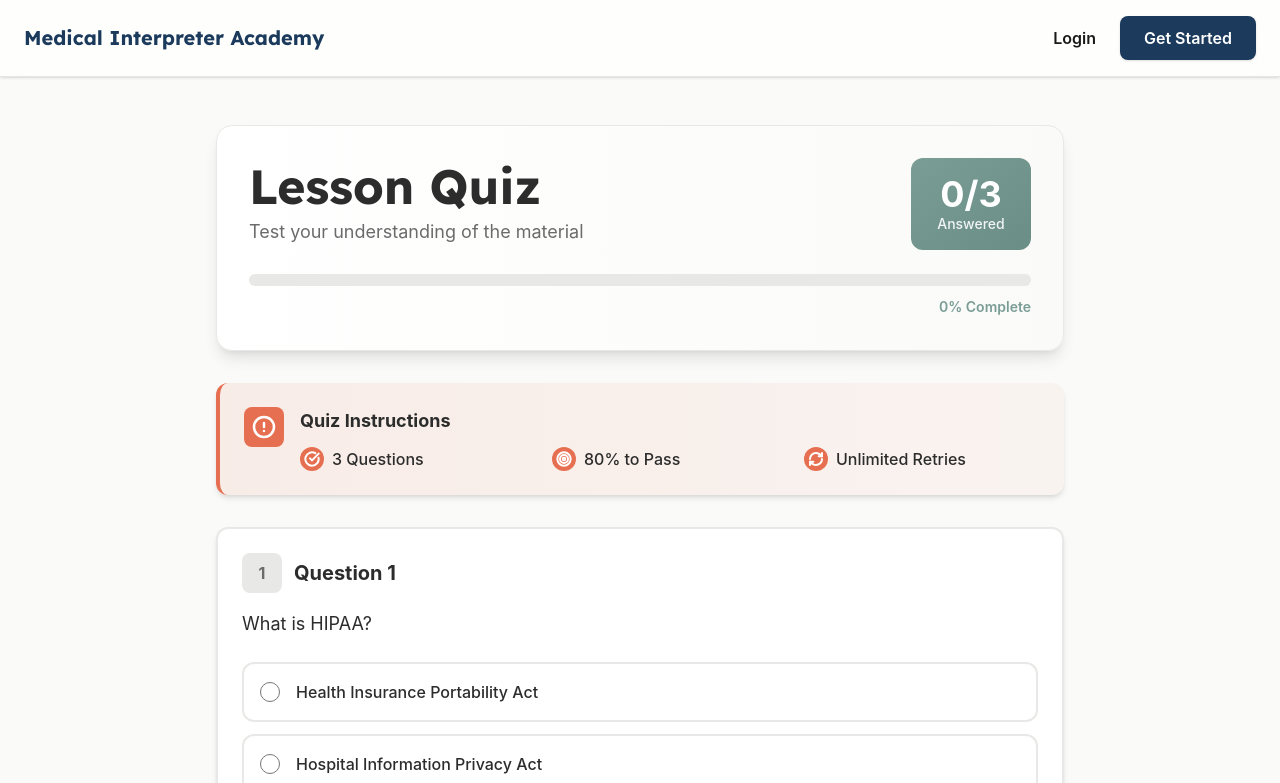
Test: QuizView Page › Answering Questions › should update answered count when answering questions
Expected: the text "0/3" is shown, [940,172,1002,216]
// Answer first question
Step 1. Click the radio button labelled "Health Insurance Portability Act" → (270, 692), box [260,682,280,702]
(page scrolled)
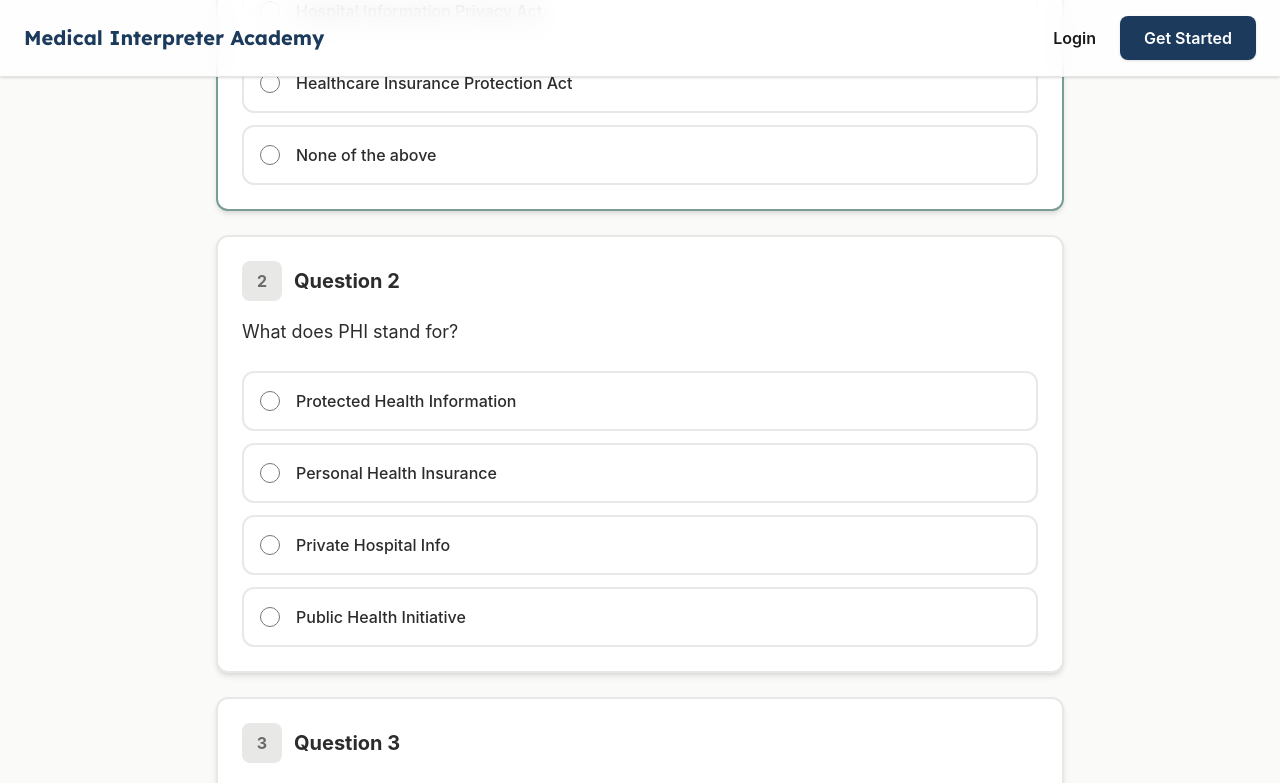
// Answer second question
Step 2. Click the radio button labelled "Protected Health Information" → (270, 400), box [260,390,280,410]
(page scrolled)
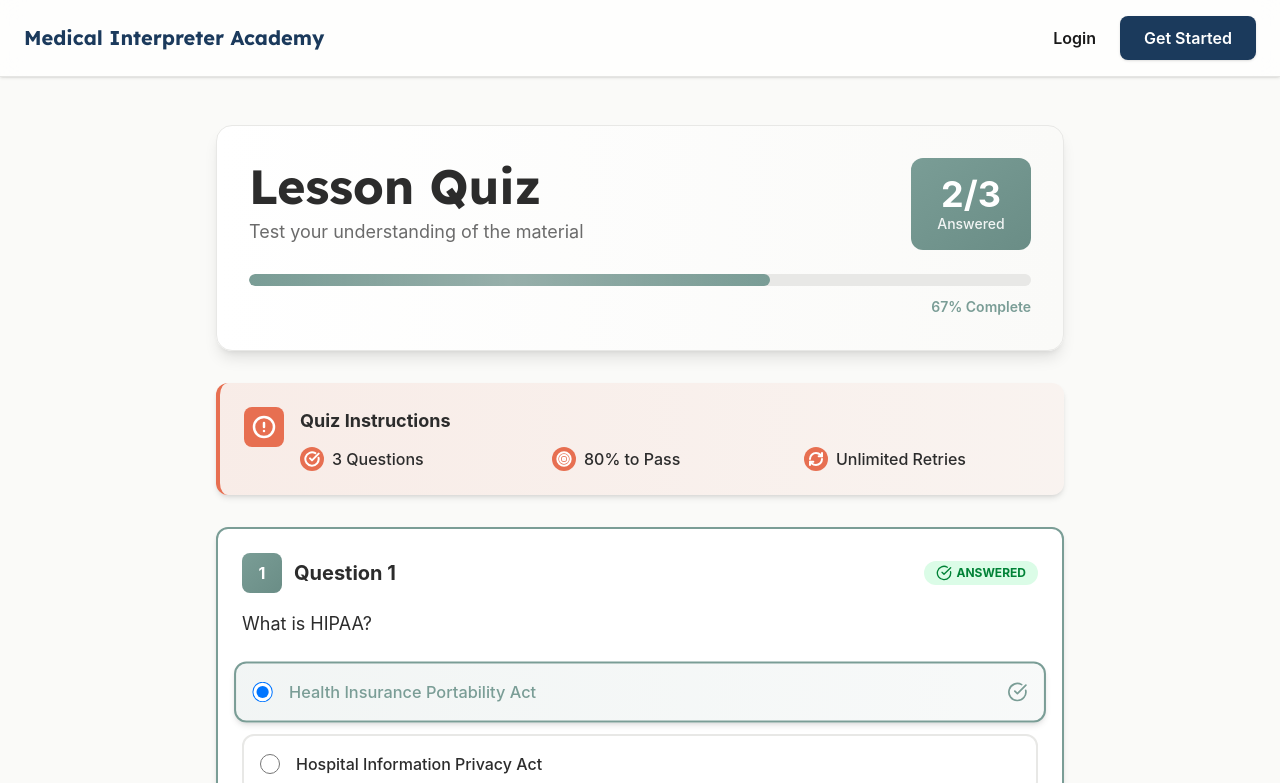
Expected: the text "2/3" is shown, [941,172,1001,216]
